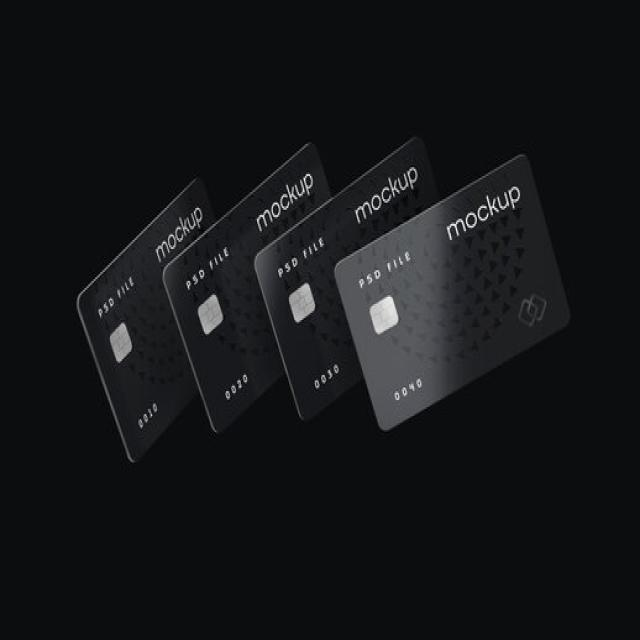payment_card: (332, 151, 571, 432), (252, 135, 439, 420), (157, 138, 328, 431), (74, 174, 217, 463)
